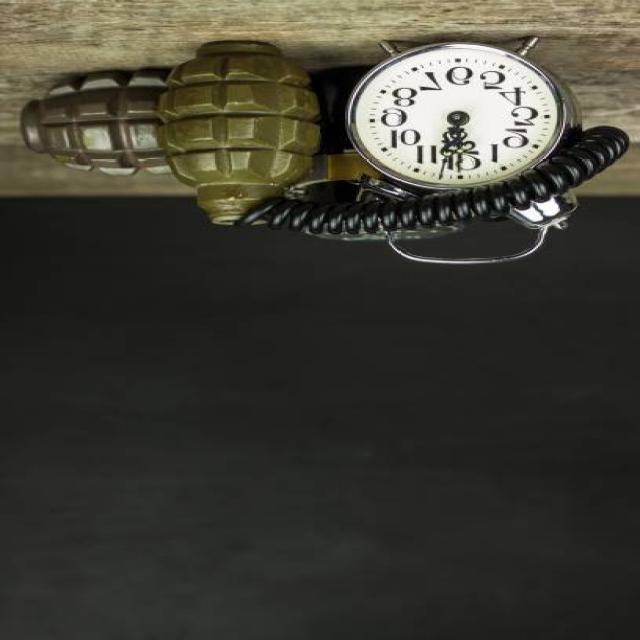grenade: (149, 37, 336, 227)
